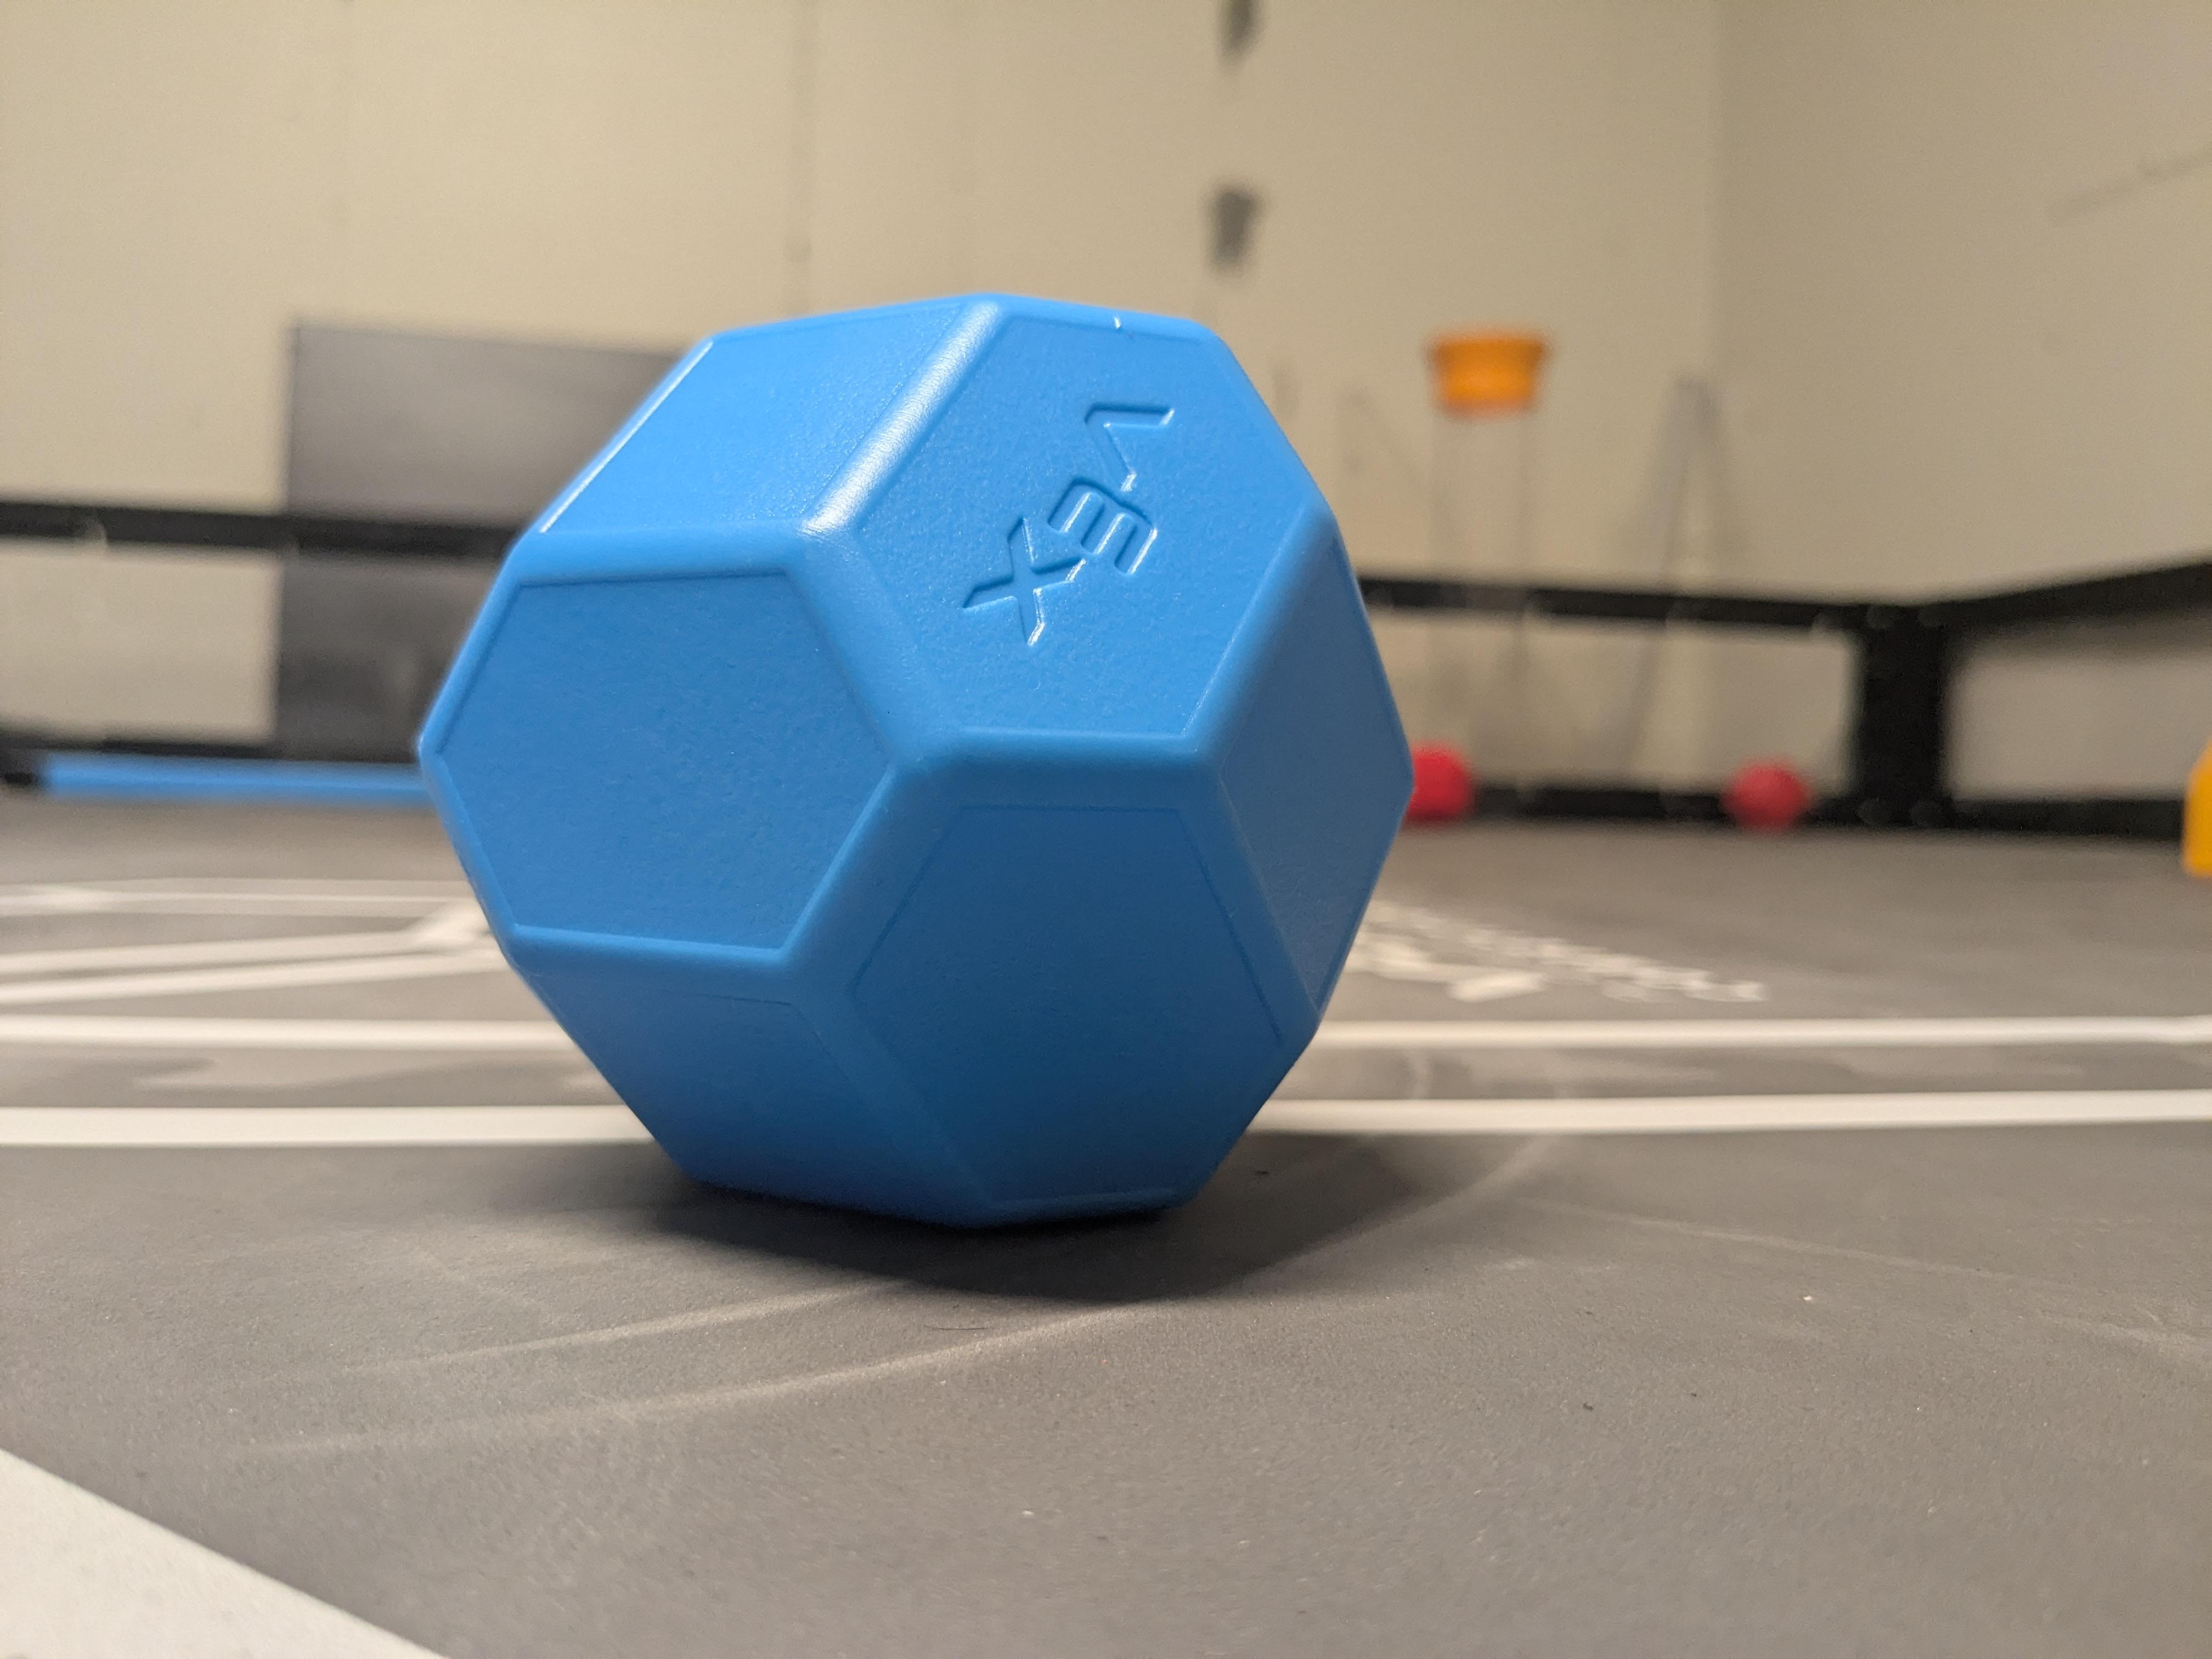Vex-Pieces-BLUE: (428, 289, 1390, 1239)
